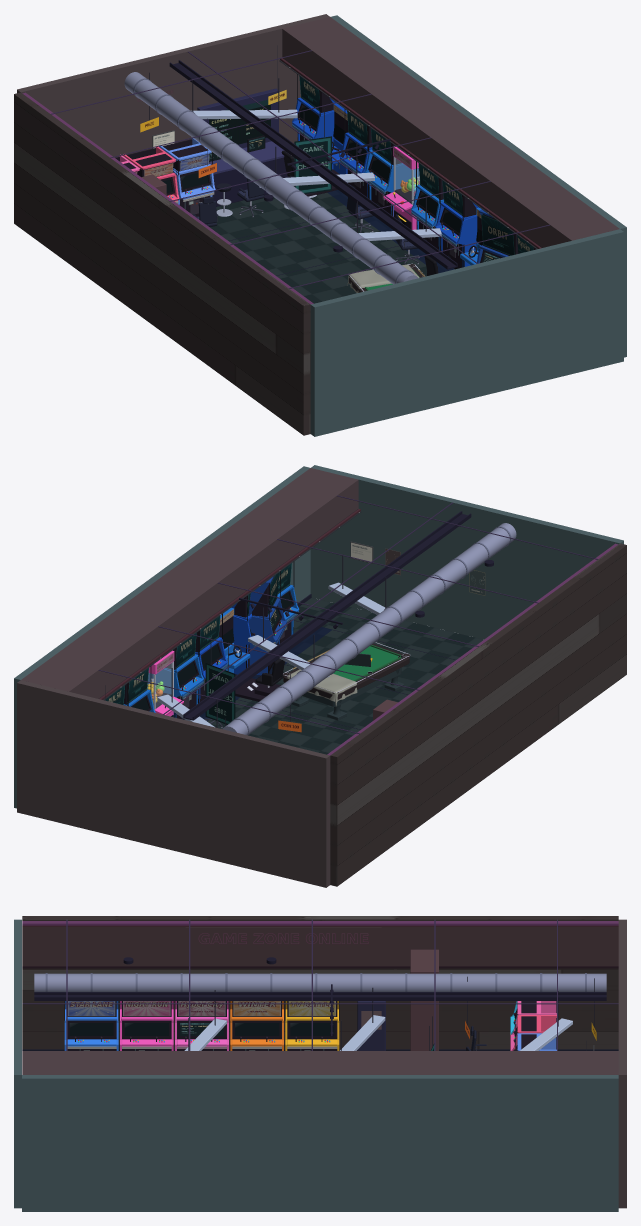
Rendered from game-room-1-day.glb.
3 views of the same model, one above another, from view 1: azimuth 30°, elevation 25°; view 2: azimuth 150°, elevation 25°; view 3: azimuth 270°, elevation 25° (orthographic). The views are drawn at different scales.
Visible parts, largest first — view 1: object 59, object 58, object 64, object 60, object 56, object 183, object 185, object 188, object 65, object 121, object 76, object 94 (+20 smaller); view 2: object 60, object 58, object 59, object 64, object 56, object 183, object 185, object 65, object 188, object 117, object 76, object 71 (+12 smaller); view 3: object 59, object 61, object 58, object 64, object 183, object 185, object 69, spot:rig-seven, object 60, object 65, object 73, object 188 (+18 smaller).
Part boxes in pixels (x1,y1,x2,y2): object 59: (310, 15, 626, 436); object 58: (14, 92, 310, 435); object 64: (282, 17, 619, 247); object 60: (17, 14, 329, 157); object 56: (209, 157, 453, 303); object 183: (124, 72, 418, 284); object 185: (169, 60, 457, 269); object 188: (115, 90, 536, 268); object 65: (51, 50, 549, 288); object 121: (292, 97, 478, 266); object 76: (191, 109, 441, 240); object 94: (162, 105, 482, 244); object 60: (17, 680, 330, 887); object 58: (330, 543, 626, 886); object 59: (14, 465, 623, 808); object 64: (21, 468, 358, 698); object 56: (200, 598, 483, 754); object 183: (222, 523, 516, 734); object 185: (183, 511, 493, 720); object 65: (98, 495, 598, 734); object 188: (105, 576, 291, 718); object 117: (123, 585, 299, 717); object 76: (157, 582, 385, 727); object 71: (205, 663, 235, 724); object 59: (14, 919, 618, 1211); object 61: (22, 926, 618, 965); object 58: (22, 916, 618, 1049); object 64: (22, 1051, 618, 1074); object 183: (34, 973, 606, 991); object 185: (34, 957, 606, 1037); object 69: (22, 921, 618, 925); spot:rig-seven: (285, 1001, 339, 1050); object 60: (618, 919, 626, 1208); object 65: (22, 919, 618, 1050); object 73: (410, 949, 438, 1050); object 188: (67, 1001, 556, 1050).
Size of the model in its own units: 9.4 by 3.68 by 15.
Materials: 194 (62 with a texture image).
